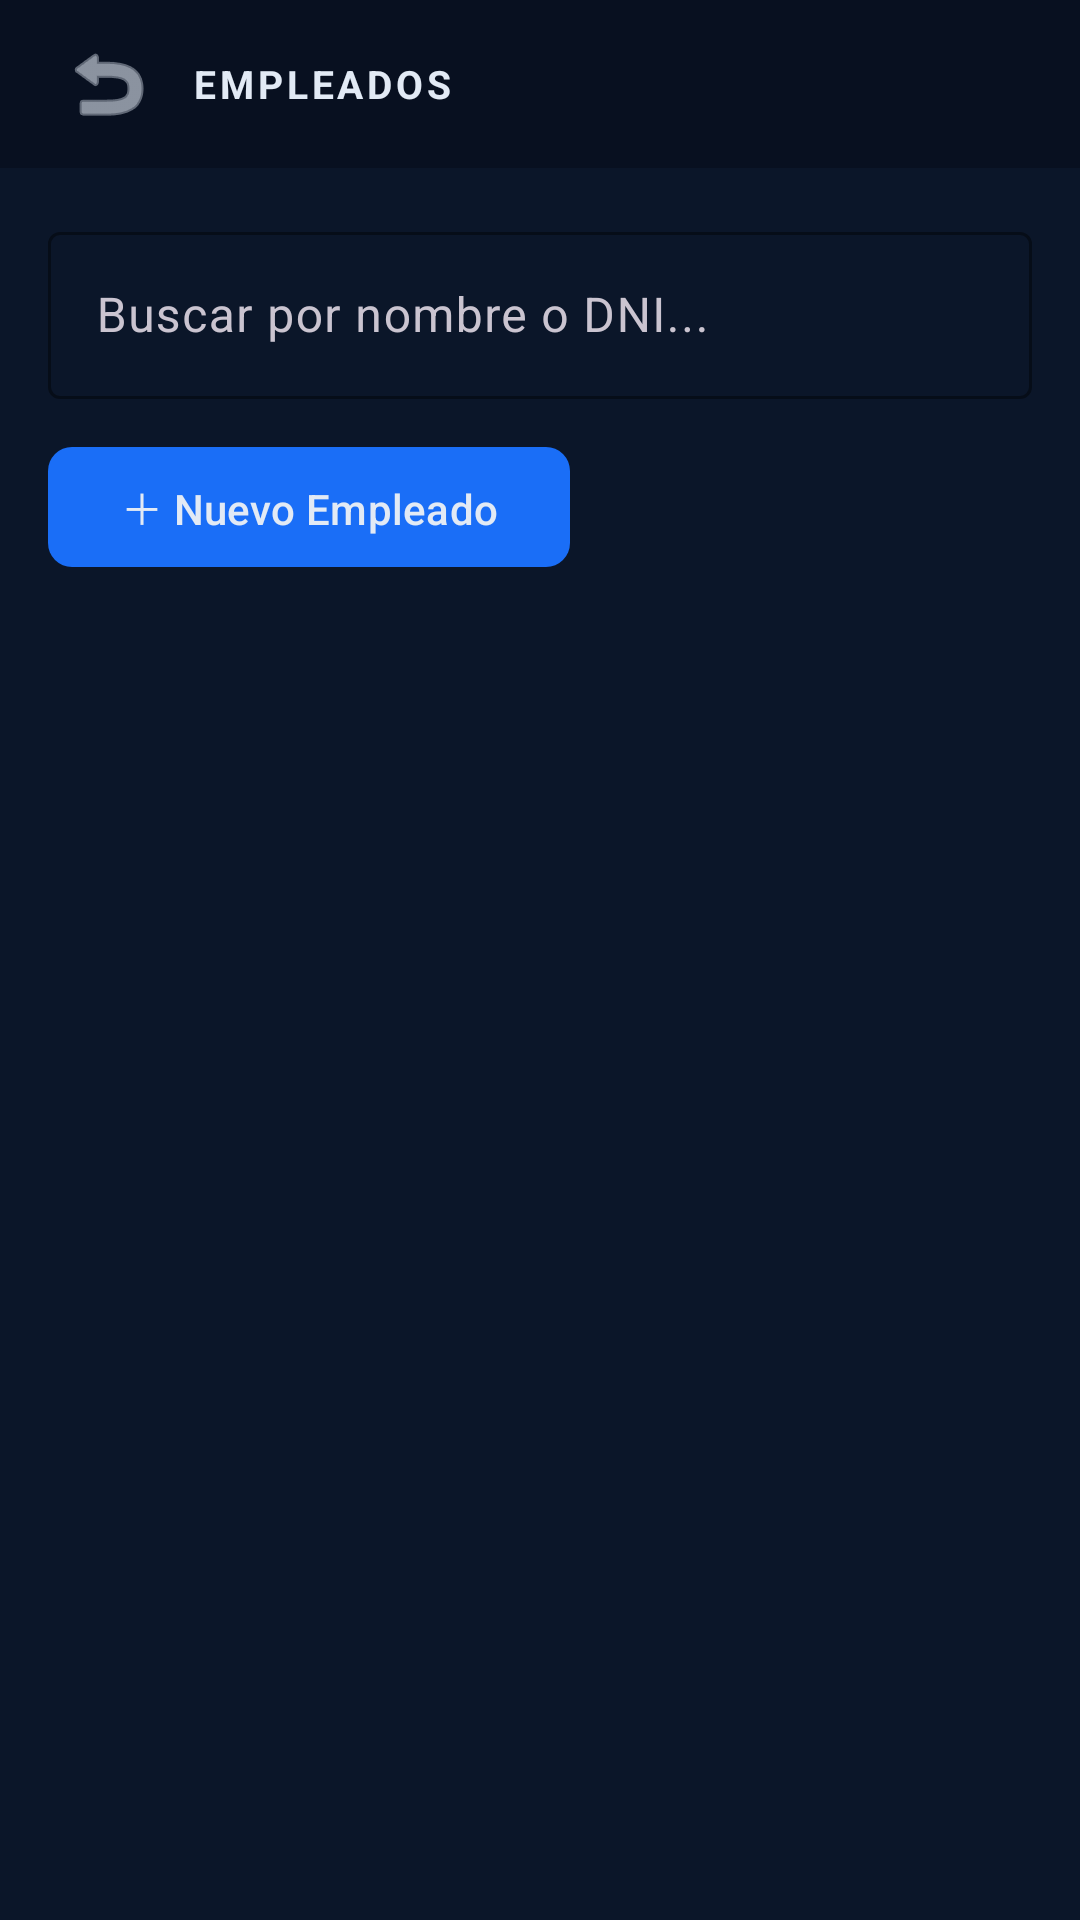

Where to tap for icons on this 1080px×1920px app screen, as (x,y):
revert: (109,84)
